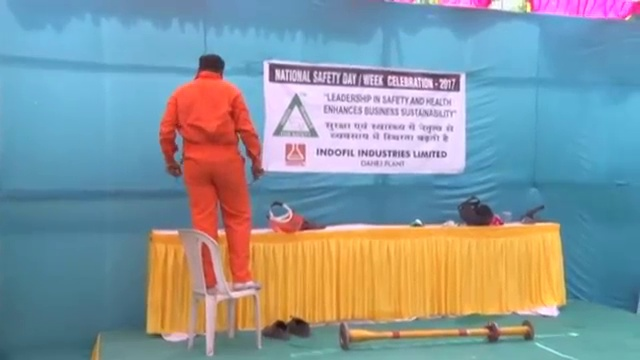helmet_off: (196, 53, 225, 81)
person: (163, 55, 265, 291)
